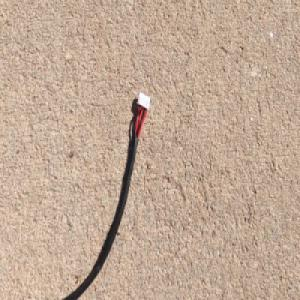Wire: (51, 88, 152, 300)
